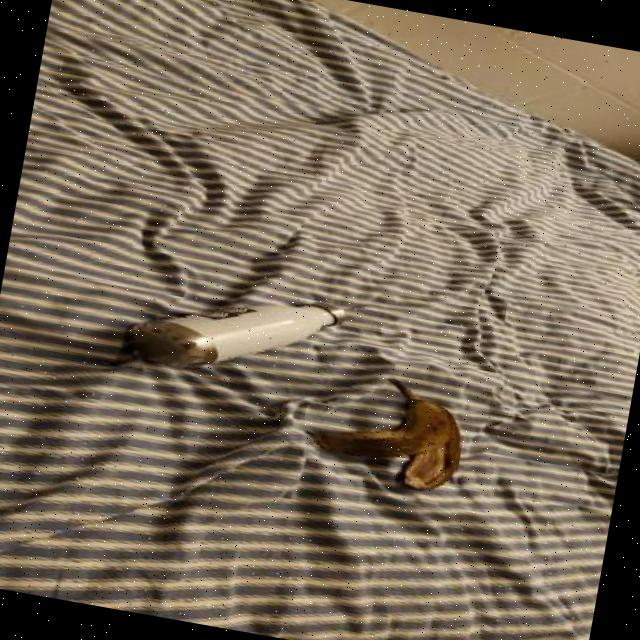banana-peel: (118, 267, 346, 398), (296, 362, 472, 496)
